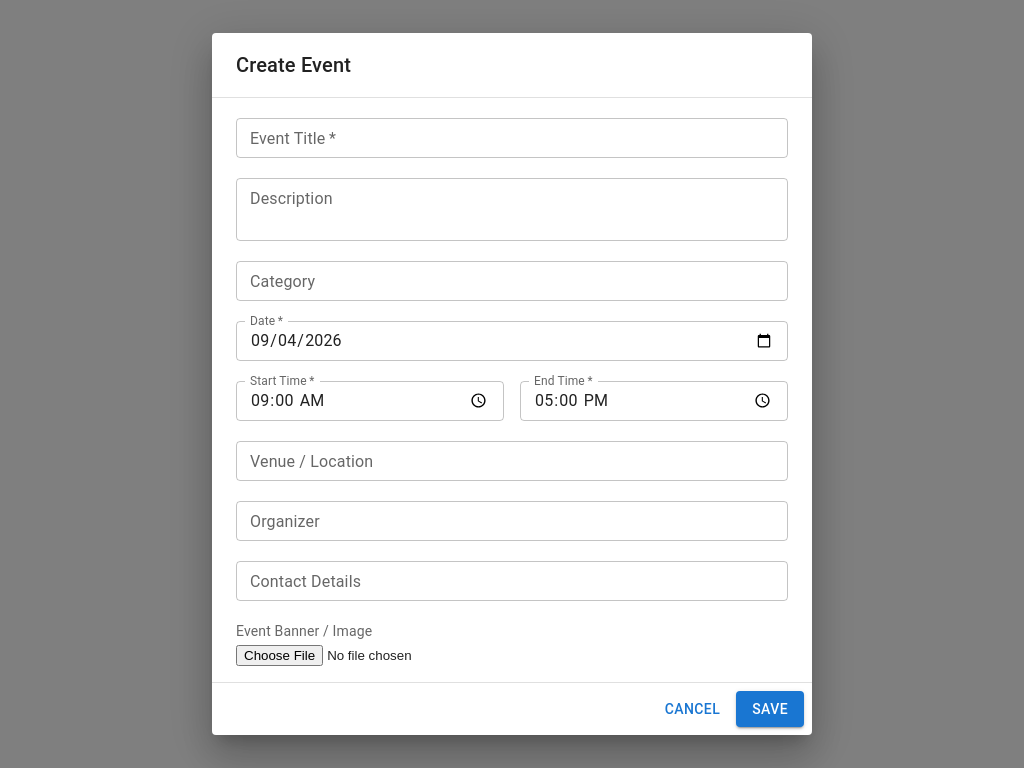
Test: EventFormDialog › rejects a start time that is not before the end time
The image size is (1024, 768).
Type "Diwali Milan" into the field labelled "Event Title *".
click(512, 138); type("Diwali Milan")  # box top-left (236, 118), bottom-right (788, 158)
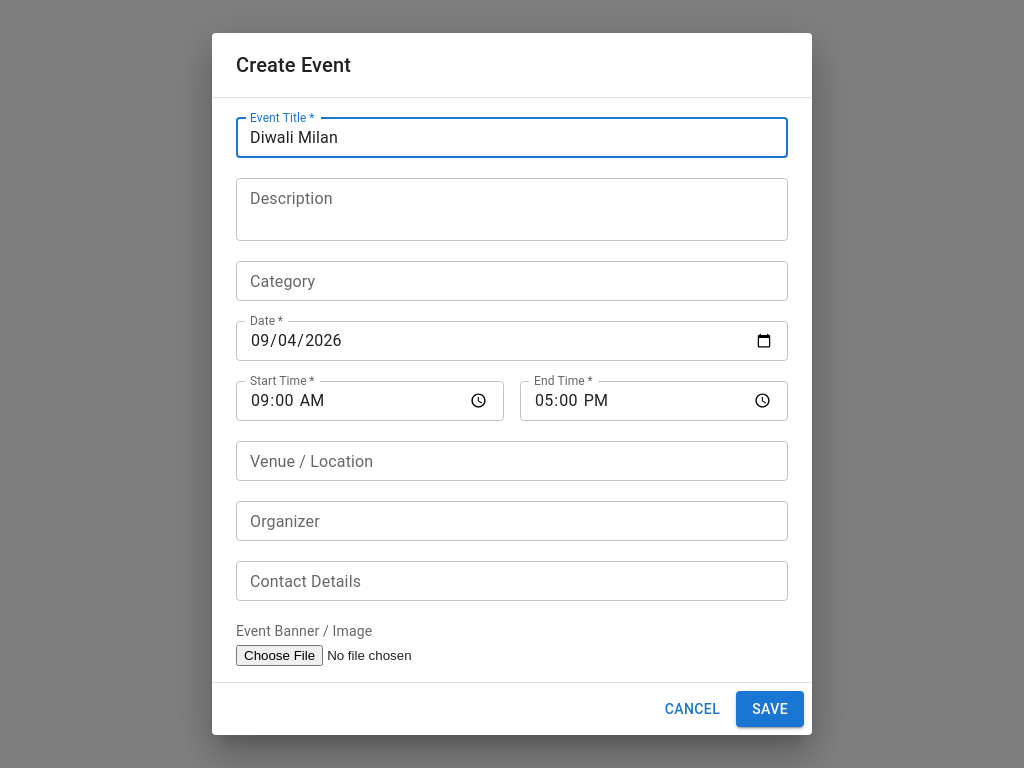
Replace the text in the time field labelled "Start Time *" with "15:00" at coordinates (370, 401), box top-left (236, 381), bottom-right (504, 421)
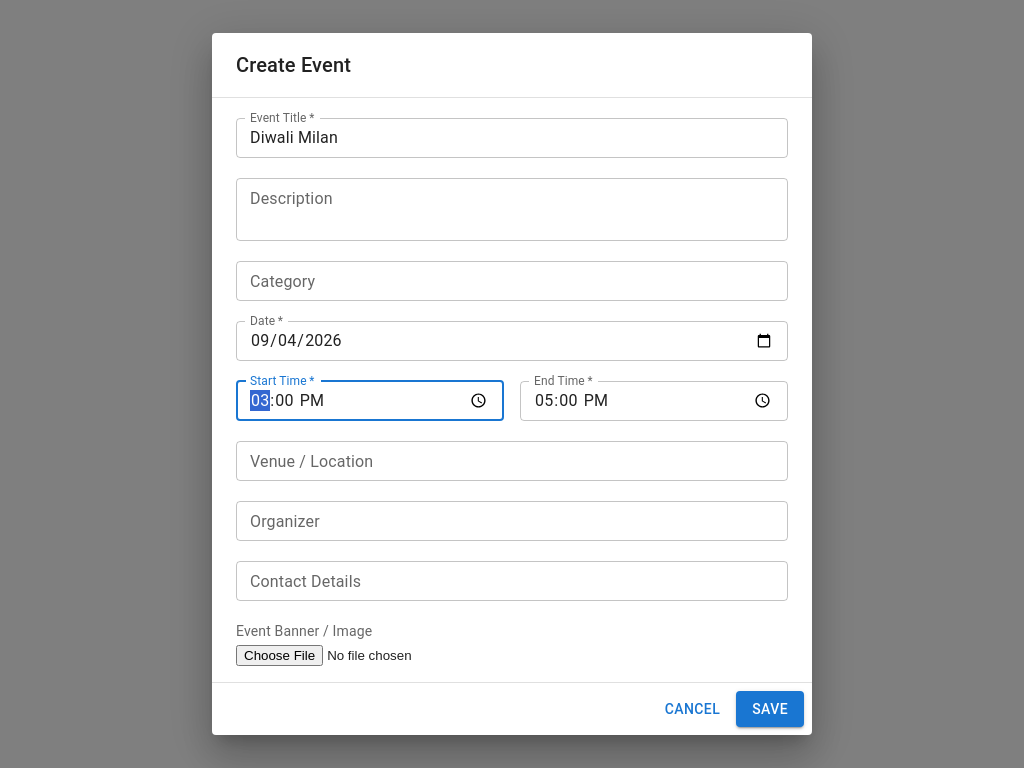
Replace the text in the time field labelled "End Time *" with "10:00" at coordinates (654, 401), box top-left (520, 381), bottom-right (788, 421)
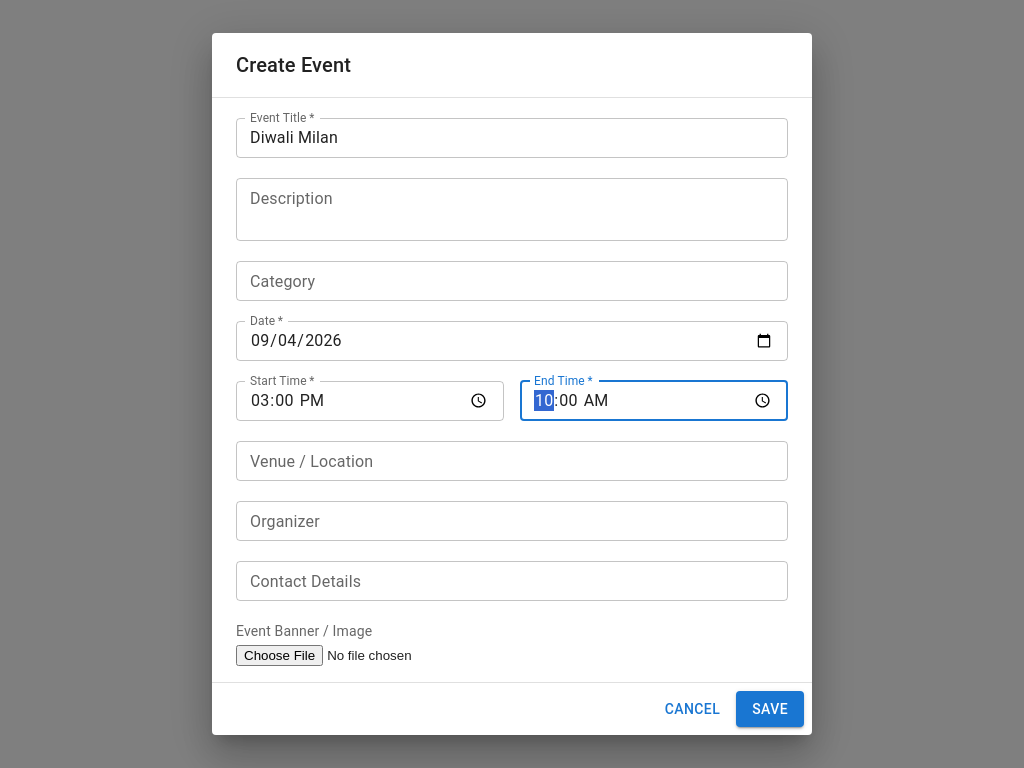
Click the button "Save".
click(770, 709)  # box top-left (736, 691), bottom-right (804, 727)
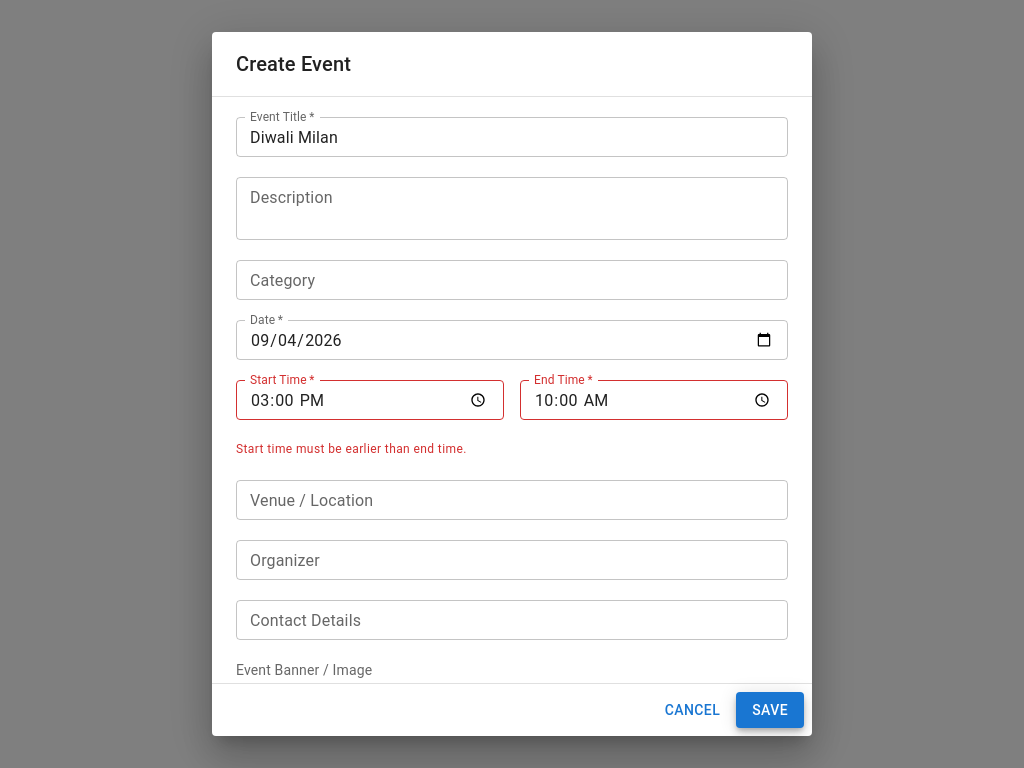
Expected: the text "Start time must be earlier than end time." is shown, top-left (236, 442), bottom-right (467, 456)
